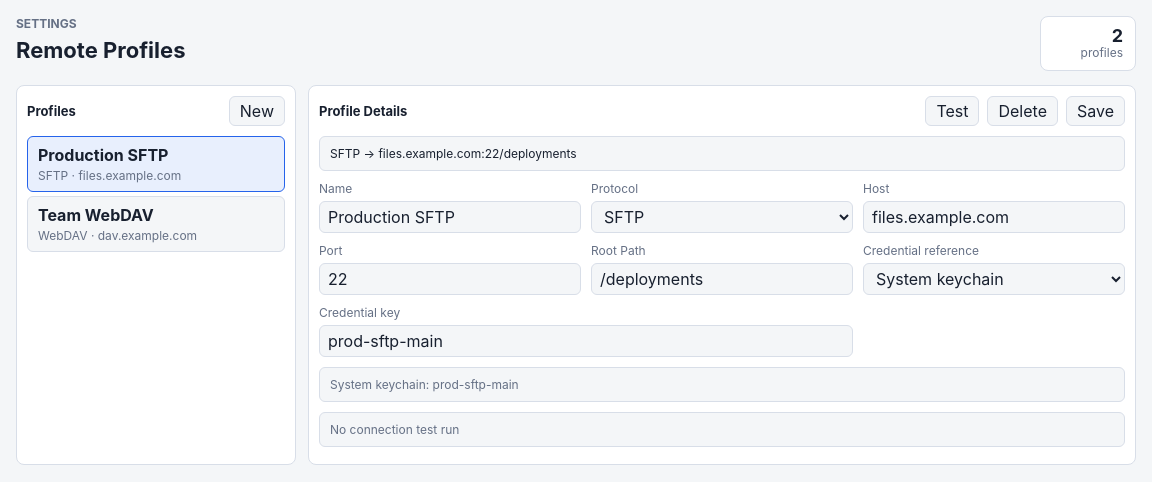
RemoteProfileView › selects and edits a remote profile
Click the button with test id "select-remote-profile-team-webdav" at [156, 224], box [27, 196, 285, 252]
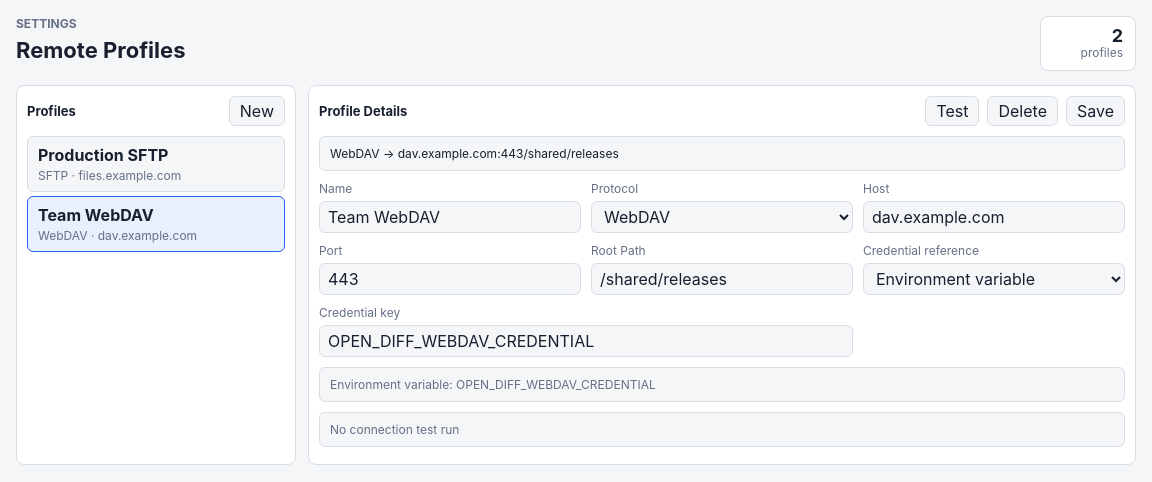
Replace the text in the field with test id "remote-profile-name-input" with "Team WebDAV Primary" at [450, 217], box [319, 201, 581, 233]
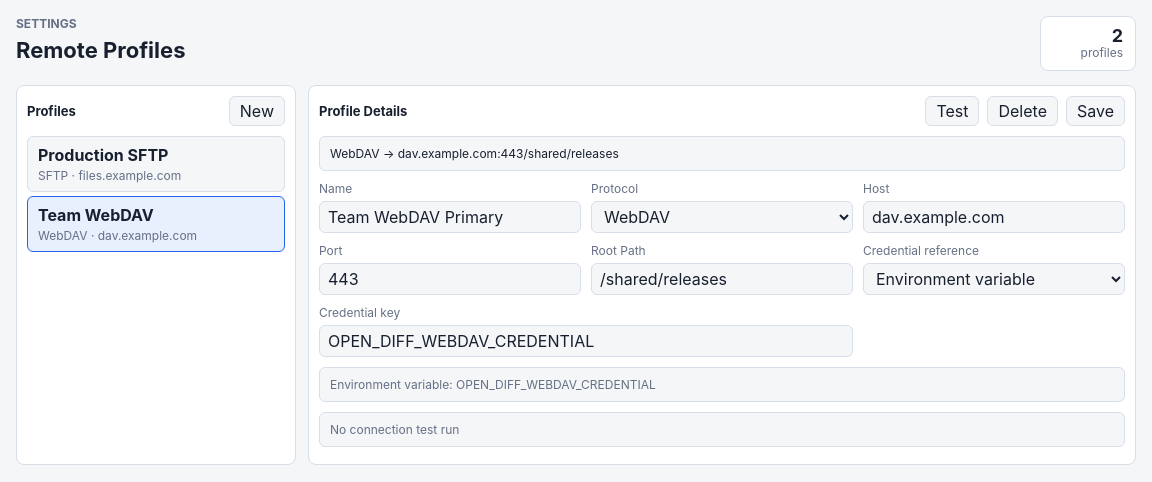
Replace the text in the field with test id "remote-profile-host-input" with "dav2.example.com" at [994, 217], box [863, 201, 1125, 233]
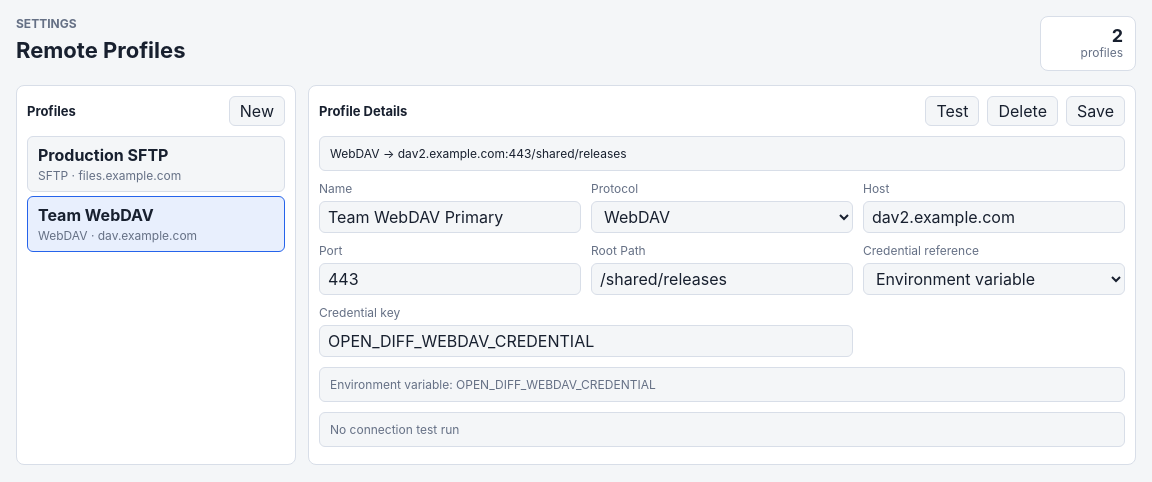
Replace the text in the field with test id "remote-profile-root-input" with "/shared/v2" at [722, 279], box [591, 263, 853, 295]
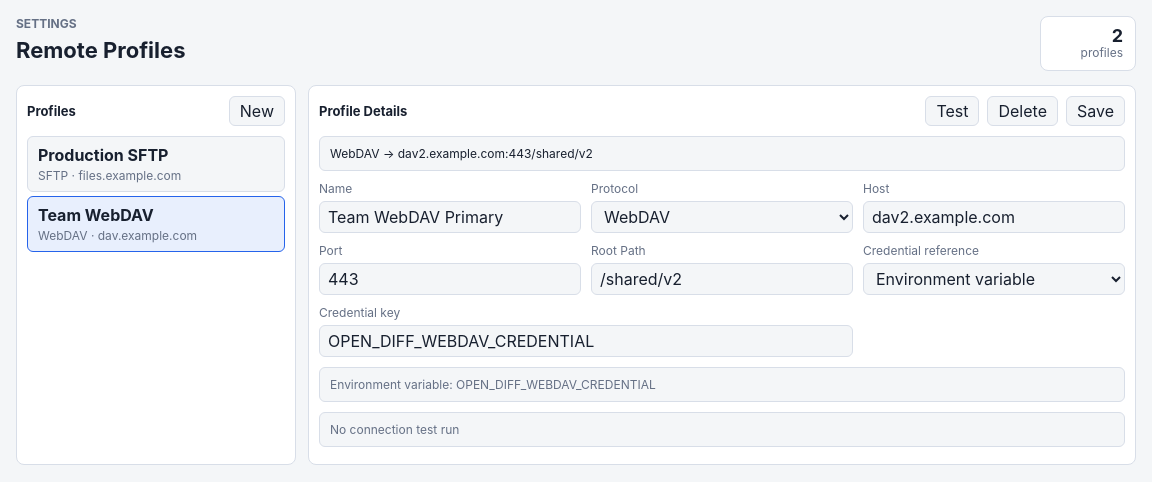
Click the button with test id "save-remote-profile" at [1096, 111], box [1066, 96, 1125, 126]
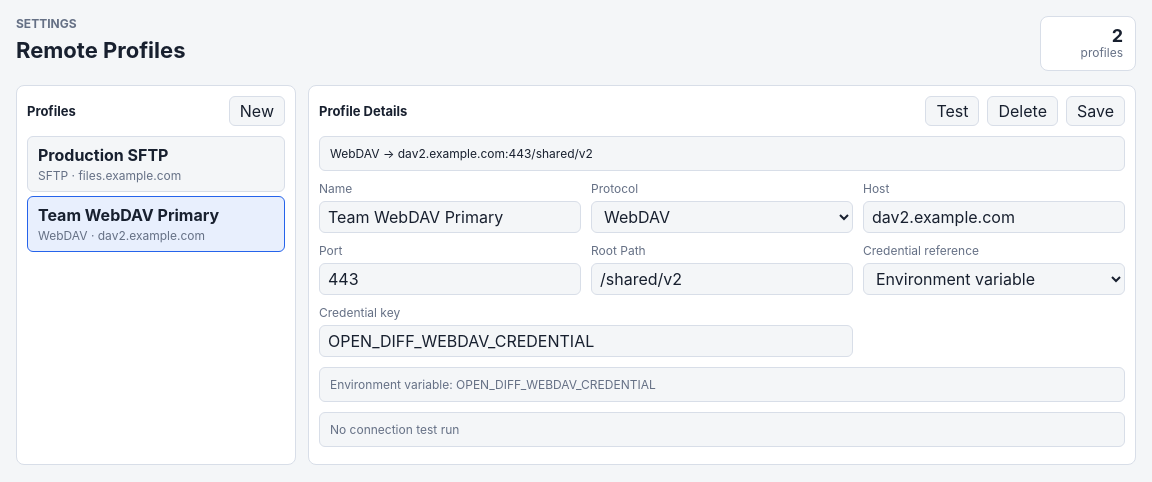
Now the text with test id "remote-profile-summary" shows "dav2.example.com", box [330, 146, 593, 161]
Now the text with test id "remote-profile-summary" shows "/shared/v2", box [330, 146, 593, 161]
Now the element with test id "remote-profile-list" shows "Team WebDAV Primary", box [27, 196, 285, 252]
